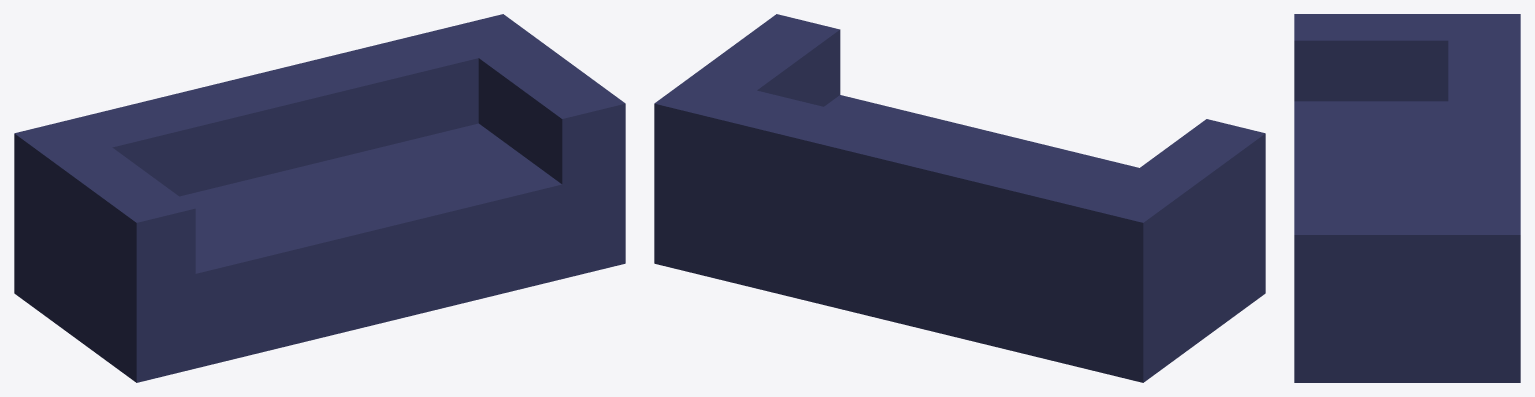
Rendered from Sofa.fbx.
3 views of the same model, side by side, from view 1: azimuth 30°, elevation 25°; view 2: azimuth 150°, elevation 25°; view 3: azimuth 270°, elevation 25° (orthographic). The views are drawn at different scales.
Visible parts, largest first — view 1: Sofa; view 2: Sofa; view 3: Sofa.
Part boxes in pixels (<box>): Sofa: <box>14,14,625,382</box>; Sofa: <box>654,14,1265,382</box>; Sofa: <box>1294,14,1520,382</box>.
Size of the model in its own units: 599 by 187 by 260.
